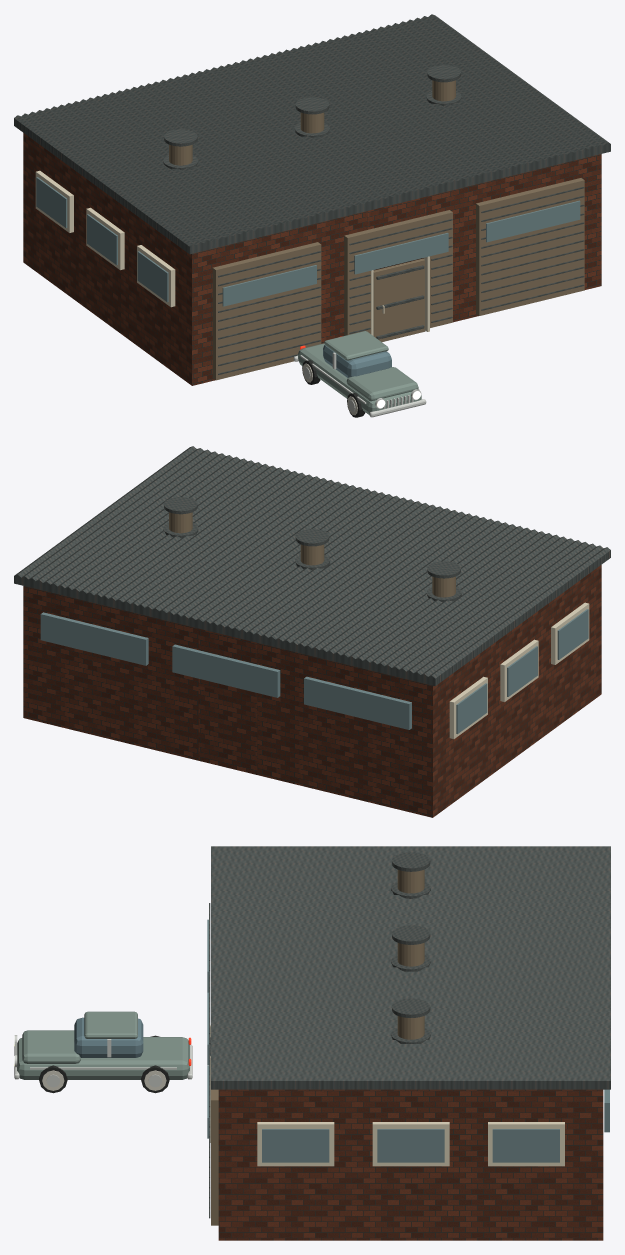
File: dealer.glb
3 views of the same model, one above another, from view 1: azimuth 30°, elevation 25°; view 2: azimuth 150°, elevation 25°; view 3: azimuth 270°, elevation 25° (orthographic). The views are drawn at different scales.
Parts seen in each view (by area): view 1: vent flashing, workshop wing, roof vent, workshop glazing, chassis, workshop wicket, workshop side window, cabin glass, centre pillar, wicket reinforcing rib; view 2: vent flashing, workshop wing, workshop glazing, workshop side window, roof vent; view 3: vent flashing, workshop wing, workshop glazing, chassis, workshop side window, roof vent, cabin glass, centre pillar, wheel.
Part boxes in pixels (<box>): vent flashing: <box>14,14,610,374</box>; workshop wing: <box>23,133,601,385</box>; roof vent: <box>169,80,584,380</box>; workshop glazing: <box>36,177,580,306</box>; chassis: <box>298,331,421,414</box>; workshop wicket: <box>373,258,424,341</box>; workshop side window: <box>35,170,429,335</box>; cabin glass: <box>323,345,391,377</box>; centre pillar: <box>293,352,426,417</box>; wicket reinforcing rib: <box>376,265,424,339</box>; vent flashing: <box>14,446,610,686</box>; workshop wing: <box>23,565,601,817</box>; workshop glazing: <box>40,609,588,734</box>; workshop side window: <box>449,602,589,738</box>; roof vent: <box>169,512,455,597</box>; vent flashing: <box>209,846,610,1218</box>; workshop wing: <box>218,1089,603,1240</box>; workshop glazing: <box>207,919,609,1162</box>; chassis: <box>17,1011,189,1079</box>; workshop side window: <box>210,1025,564,1166</box>; roof vent: <box>211,869,424,1225</box>; cabin glass: <box>74,1017,143,1057</box>; centre pillar: <box>14,1035,192,1087</box>; wheel: <box>39,1035,169,1093</box>.
Bounding box in the file's own units: 14.4 × 5.63 × 15.53.
Materials: 13 (2 with a texture image).
